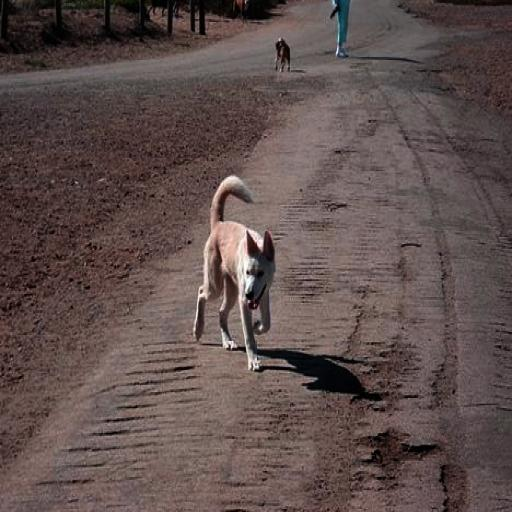dog_face: (240, 231, 279, 312)
